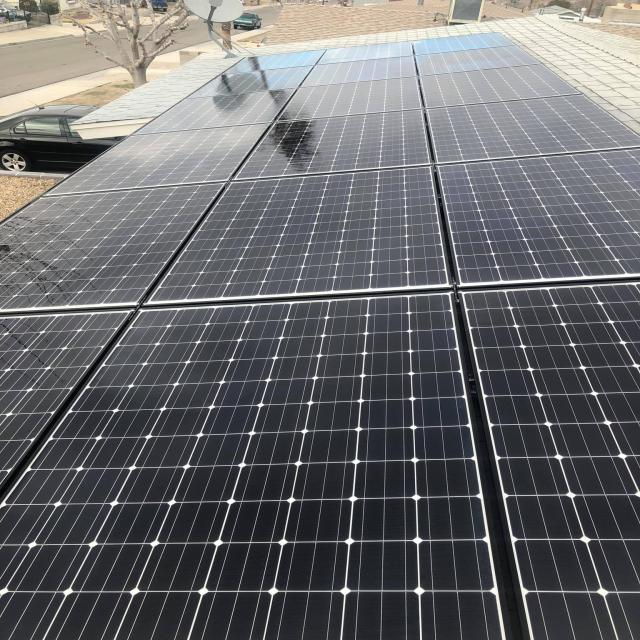clean-solar-panel: (2, 294, 503, 640)
